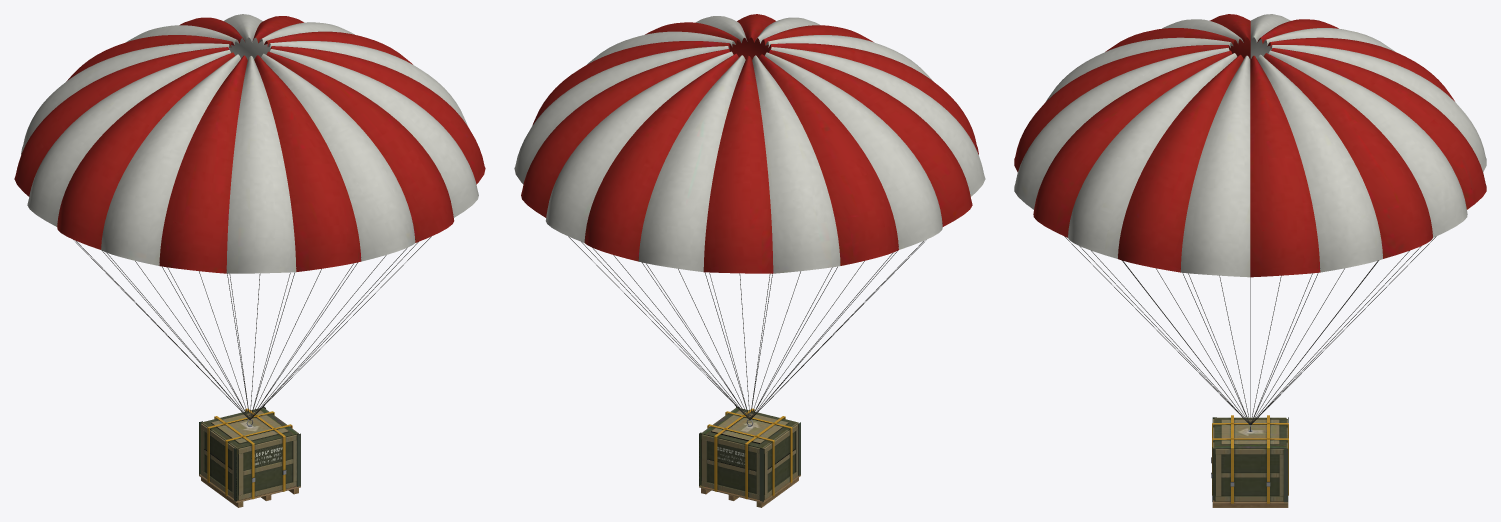
Rendered from airdrop_crate_chute.glb.
3 views of the same model, side by side, from view 1: azimuth 30°, elevation 25°; view 2: azimuth 150°, elevation 25°; view 3: azimuth 270°, elevation 25° (orthographic).
Parts seen in each view (by area): view 1: canopy, crate, lines; view 2: canopy, crate, lines; view 3: canopy, crate, lines.
Boxes of the visible parts, x1,y1,x2,y2 form: canopy: (14, 14, 485, 273); crate: (199, 407, 300, 507); lines: (57, 223, 431, 419); canopy: (514, 14, 985, 273); crate: (699, 407, 800, 507); lines: (568, 223, 942, 419); canopy: (1014, 14, 1486, 277); crate: (1211, 415, 1288, 507); lines: (1064, 236, 1436, 424).
Size of the model in its own units: 7.85 by 8.18 by 7.85.
Materials: 2 (1 with a texture image).
